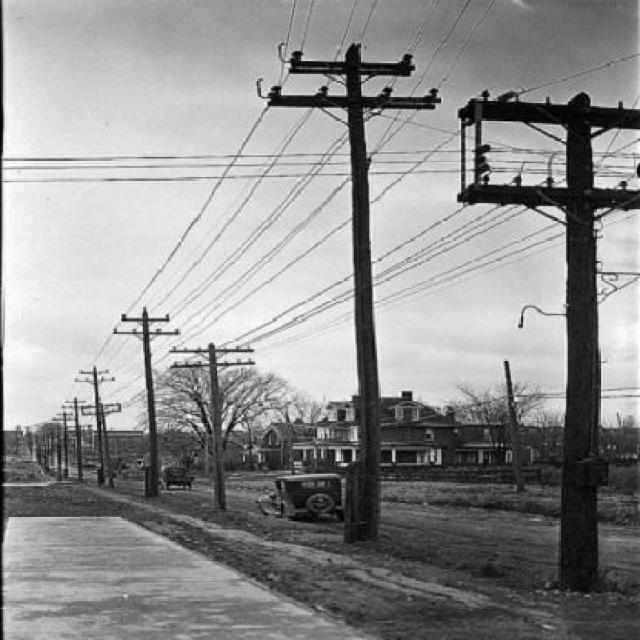Pole: (258, 43, 440, 540), (559, 120, 600, 591), (135, 308, 169, 496), (211, 342, 225, 510)
